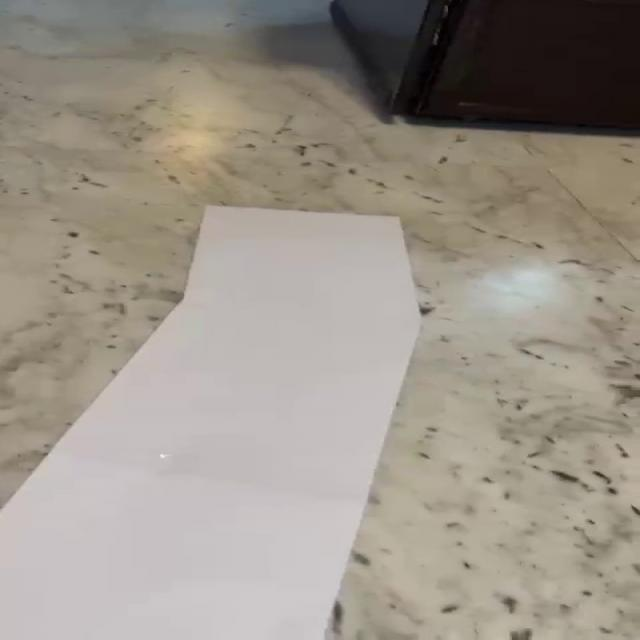road: (3, 207, 420, 640)
